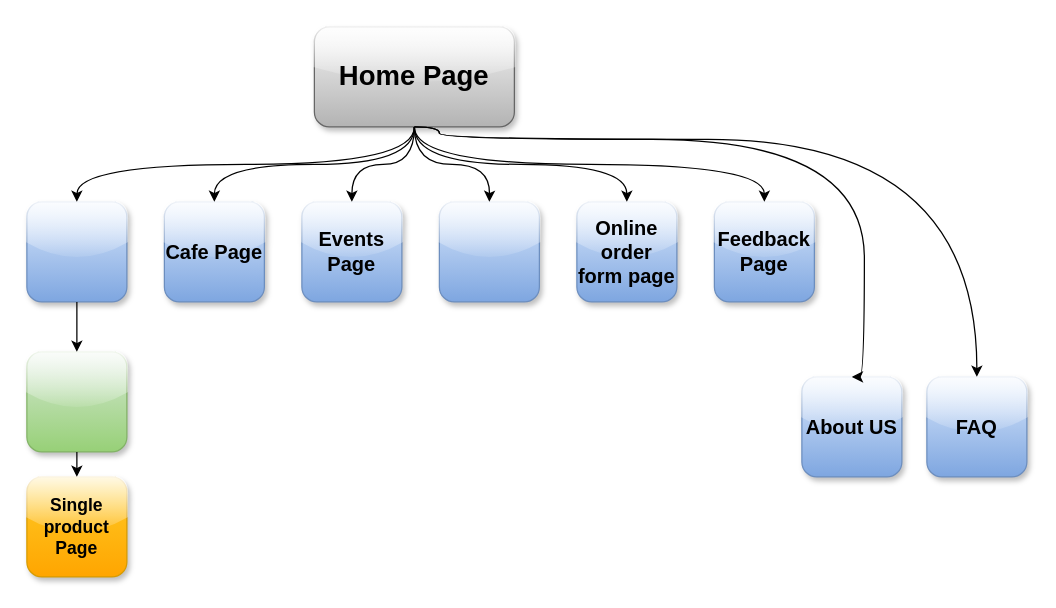
Image size: 1056x608. Some labels were removed from this diagram. The centre of each missing label's shape, as x and y in pixels:
"Brand Page" goes at point (77, 253).
"Products Page" goes at point (77, 403).
"Service Page" goes at point (490, 253).
